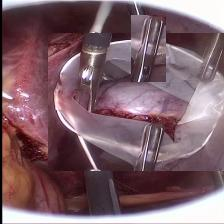Grasper: (130, 15, 165, 82), (70, 90, 104, 158), (196, 122, 224, 190)
Specimen Bag: (47, 33, 224, 171)
